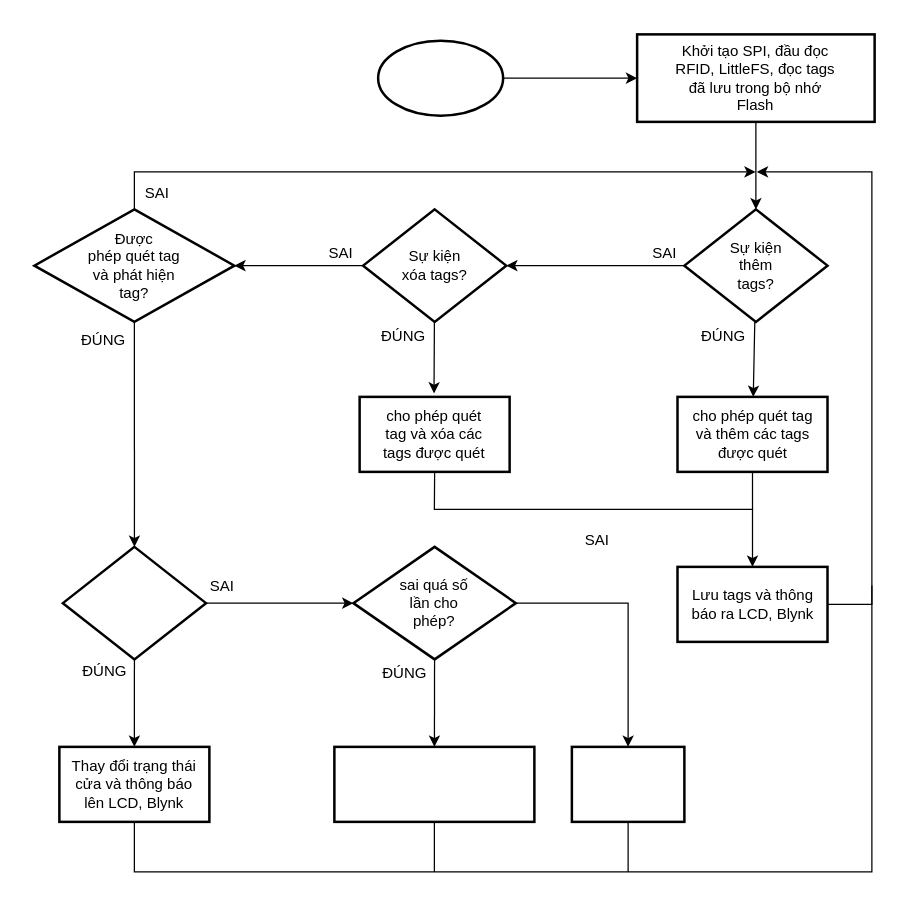
Image size: 905x905. Some labels were removed from this diagram. The centre of each missing label's shape, as x and y in pixels:
"Bắt đầu" belongs at (x=440, y=77).
"Không cho phép quét tag trong 5 phút và gửi cảnh báo tới LCD, Blynk" belongs at (x=433, y=783).
"tag hợp lệ?" belongs at (x=134, y=602).
"Tăng số lần quẹt thẻ sai lên một đơn vị" belongs at (x=627, y=783).
